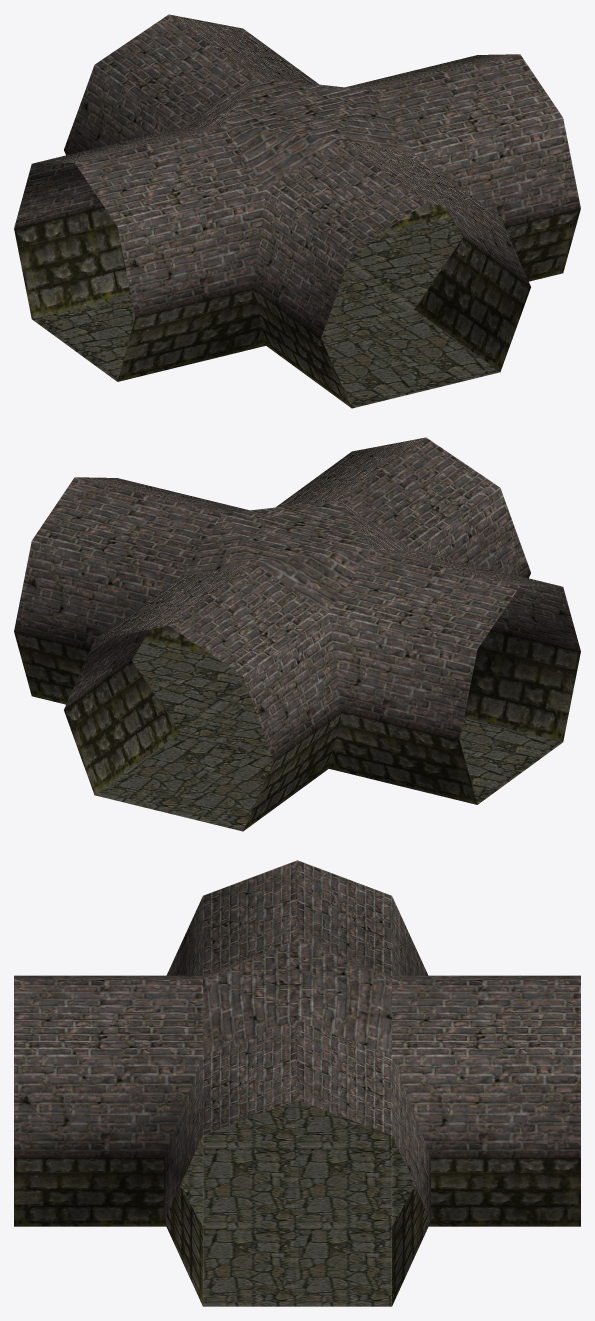
Rendered from directions.glb.
3 renders of one model, top to bottom at view 1: azimuth 30°, elevation 25°; view 2: azimuth 150°, elevation 25°; view 3: azimuth 270°, elevation 25°, orthographic. The views are drawn at different scales.
Parts seen in each view (by area): view 1: SewerSection_X; view 2: SewerSection_X; view 3: SewerSection_X.
Boxes of the visible parts, bbox=[...] form: SewerSection_X: bbox=[14, 14, 580, 408]; SewerSection_X: bbox=[14, 437, 580, 831]; SewerSection_X: bbox=[14, 860, 580, 1306].
Size of the model in its own units: 9 by 3.62 by 9.
2 materials, 2 textured.
